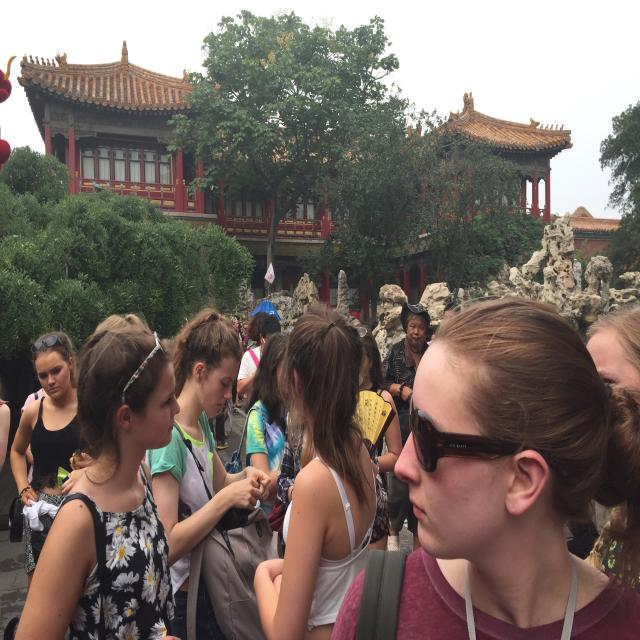body: (316, 273, 640, 640), (10, 302, 188, 640), (135, 303, 272, 640), (252, 302, 380, 640), (8, 329, 96, 599), (223, 330, 293, 520), (382, 302, 432, 552), (350, 324, 404, 554), (19, 382, 51, 502), (208, 382, 248, 452), (228, 311, 270, 353), (0, 388, 10, 495), (248, 311, 270, 352), (444, 296, 464, 328), (350, 315, 362, 334)
